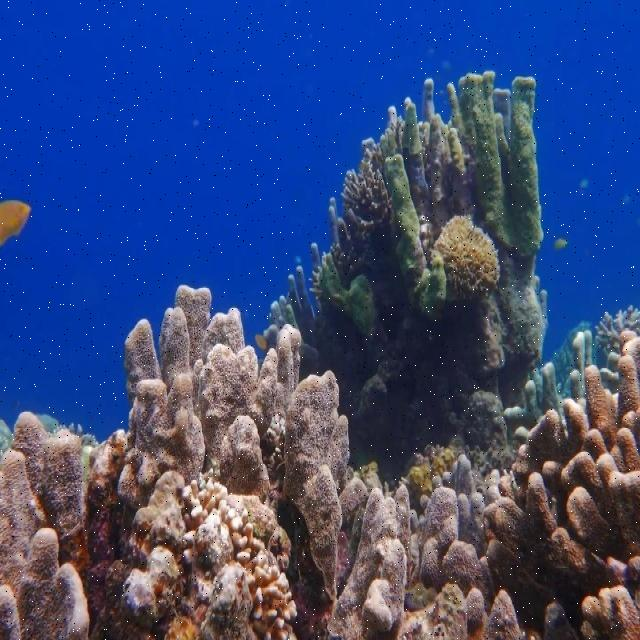fish: (0, 202, 29, 245)
reefs: (0, 286, 521, 639), (484, 328, 639, 639), (385, 69, 542, 313), (321, 264, 434, 399), (333, 137, 390, 281), (439, 222, 499, 293)
